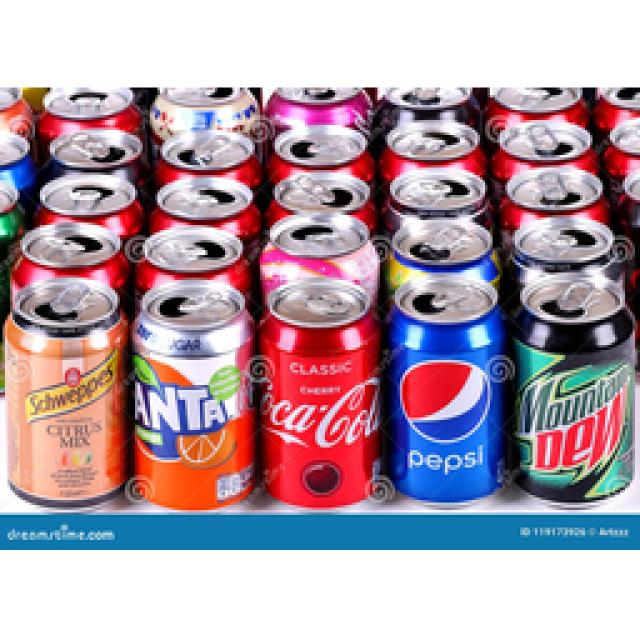aluminum_soda_cans: (5, 285, 132, 498), (390, 273, 505, 505), (262, 288, 383, 500), (137, 286, 255, 502), (520, 278, 633, 498), (262, 215, 378, 270), (13, 227, 128, 275), (510, 220, 625, 267), (138, 218, 240, 270), (392, 164, 488, 214), (505, 168, 608, 214), (393, 226, 490, 266)
